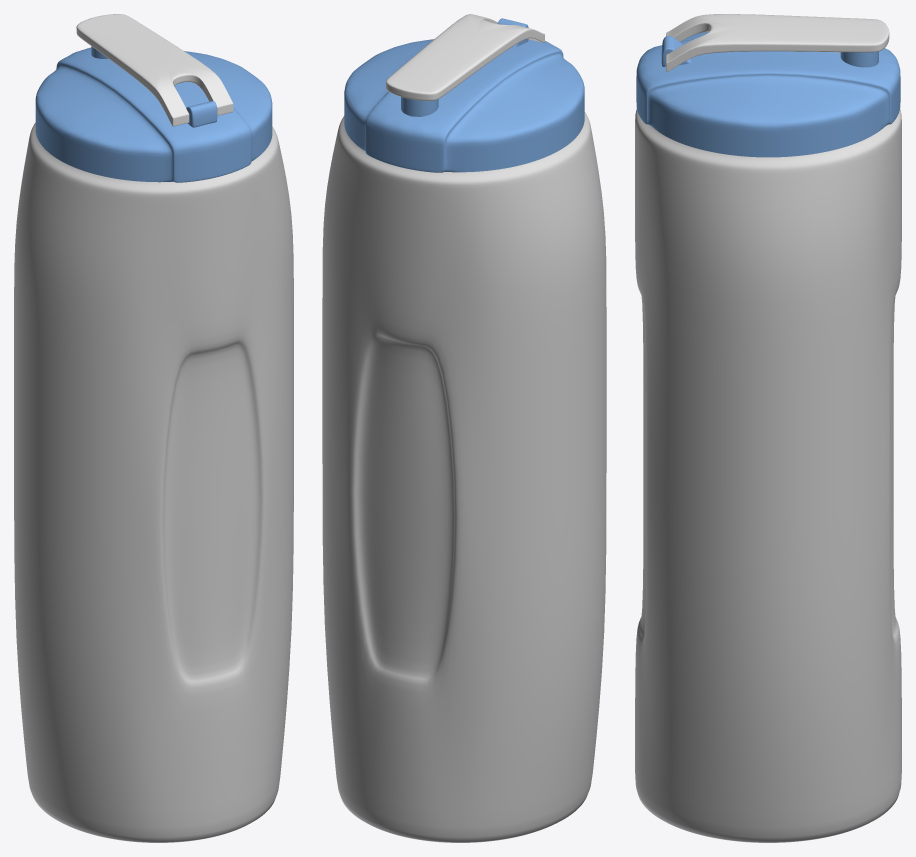
The model's file is RFL water bottle.gltf.
The picture shows the model from 3 angles, left to right: view 1: azimuth 30°, elevation 25°; view 2: azimuth 150°, elevation 25°; view 3: azimuth 270°, elevation 25°; orthographic projection. The views are drawn at different scales.
Visible parts, largest first — view 1: Cylinder, Cylinder.003, Cylinder.004; view 2: Cylinder, Cylinder.003, Cylinder.004; view 3: Cylinder, Cylinder.003, Cylinder.004.
Part boxes in pixels (box(x1,y1,x2,y2)): Cylinder: box(14, 122, 293, 842); Cylinder.003: box(35, 46, 272, 182); Cylinder.004: box(76, 14, 233, 126); Cylinder: box(322, 112, 606, 842); Cylinder.003: box(344, 18, 584, 172); Cylinder.004: box(386, 14, 544, 100); Cylinder: box(635, 109, 901, 842); Cylinder.003: box(636, 32, 900, 157); Cylinder.004: box(666, 14, 889, 71).
Bounding box in the file's own units: 0.4445 × 1.26 × 0.3986.
